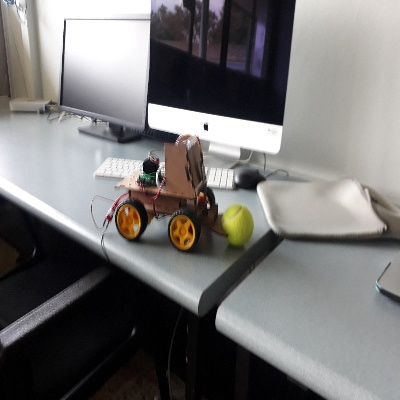Ball: (222, 206, 253, 247)
Robot: (114, 133, 228, 254)
